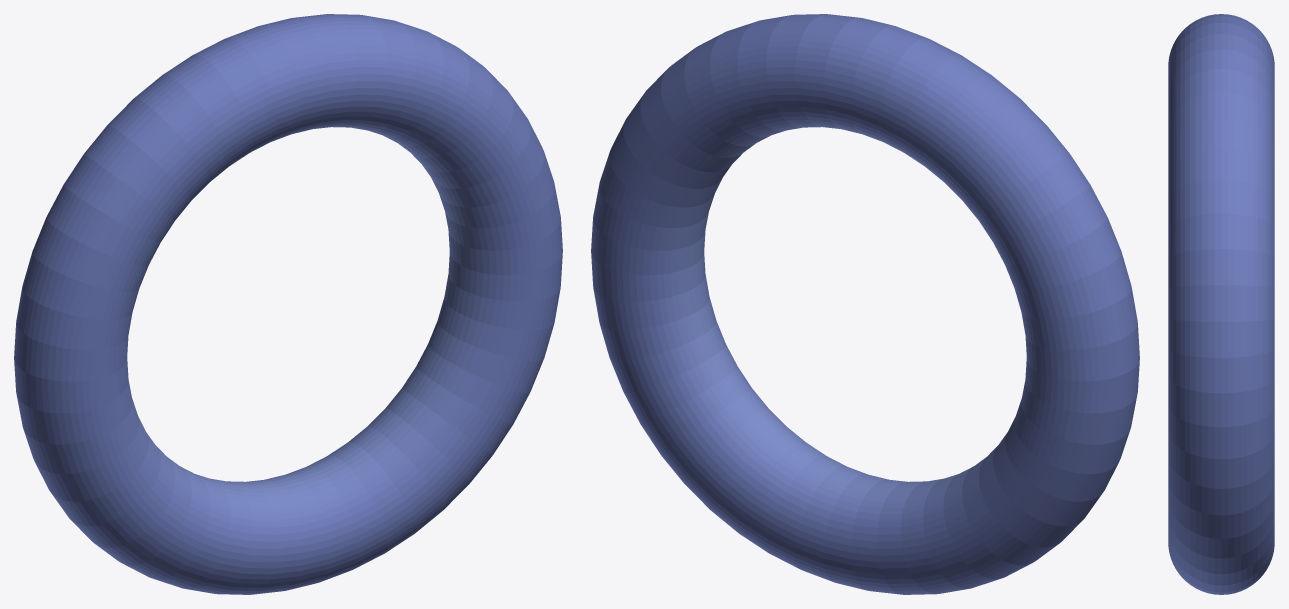
3 renders of one model, left to right at view 1: azimuth 30°, elevation 25°; view 2: azimuth 150°, elevation 25°; view 3: azimuth 270°, elevation 25°, orthographic. The views are drawn at different scales.
Visible parts, largest first — view 1: world; view 2: world; view 3: world.
Part boxes in pixels (<box>): world: <box>14,14,562,594</box>; world: <box>591,14,1139,594</box>; world: <box>1168,14,1274,594</box>.
Size of the model in its own units: 19.6 by 19.56 by 3.59.
